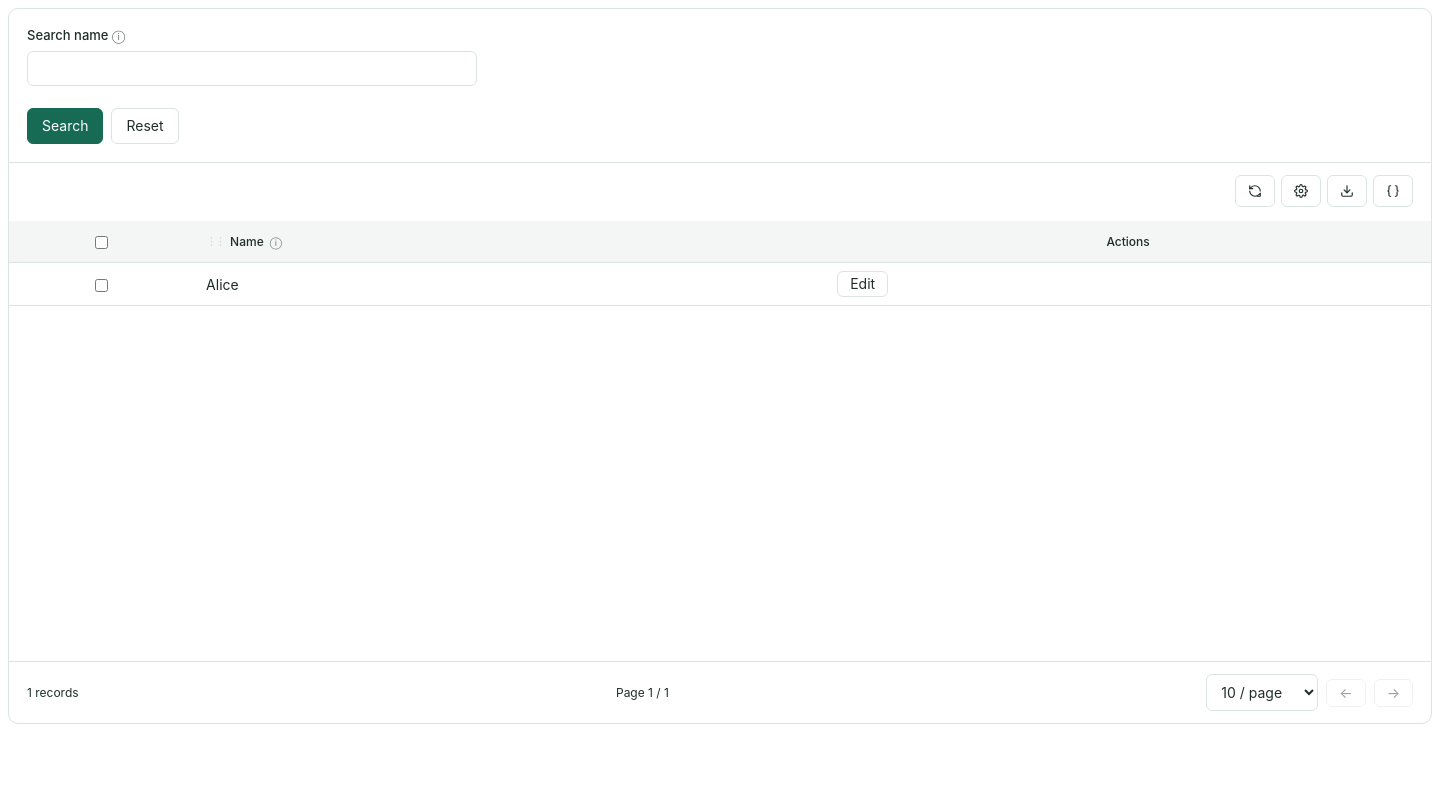
Test: table header uses built-in help when only form defaults are configured
The image size is (1440, 810).
Hover over the button named "Name" at (276, 242), box top-left (266, 234), bottom-right (286, 249)
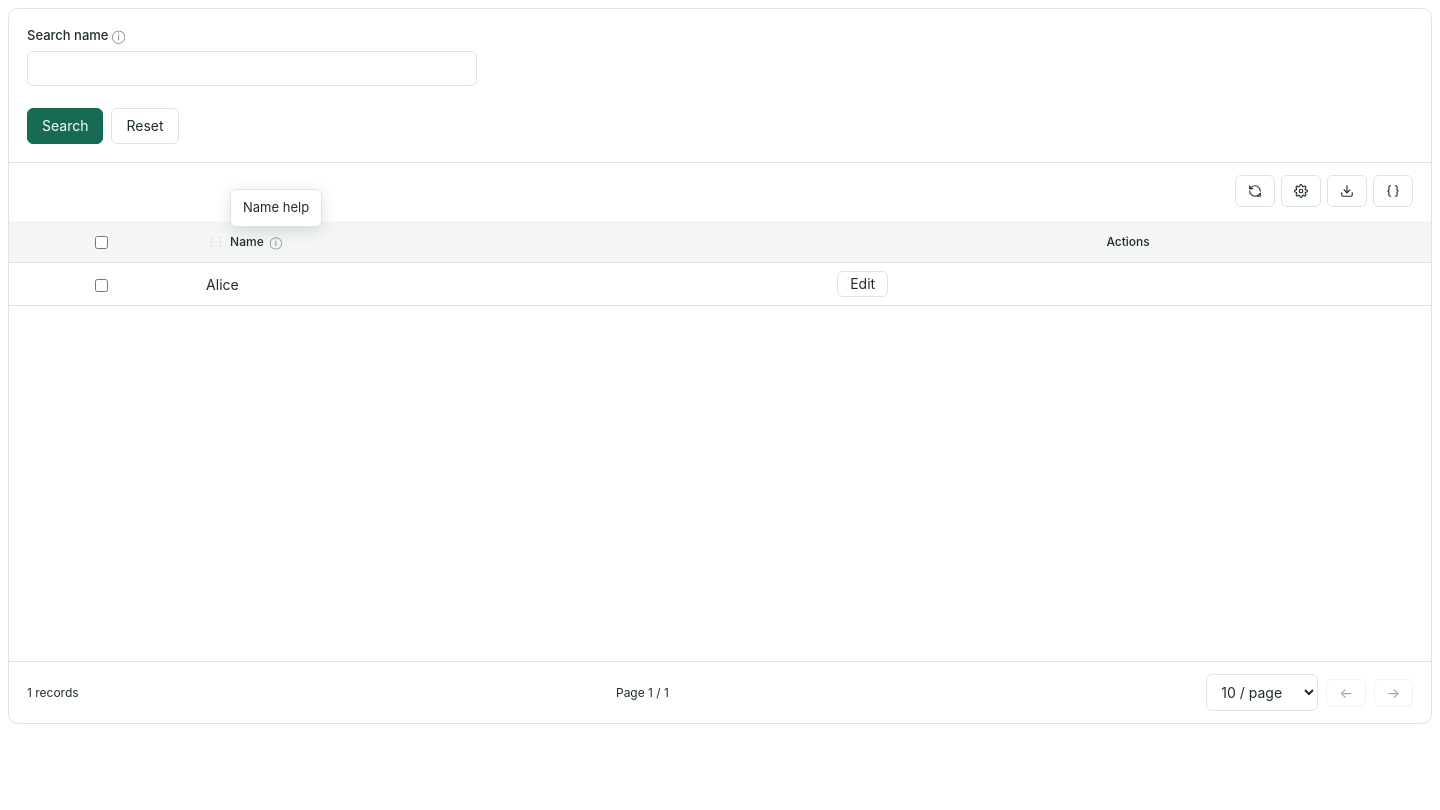
Expected: the tooltip reads "Name help", top-left (243, 199), bottom-right (309, 215)
